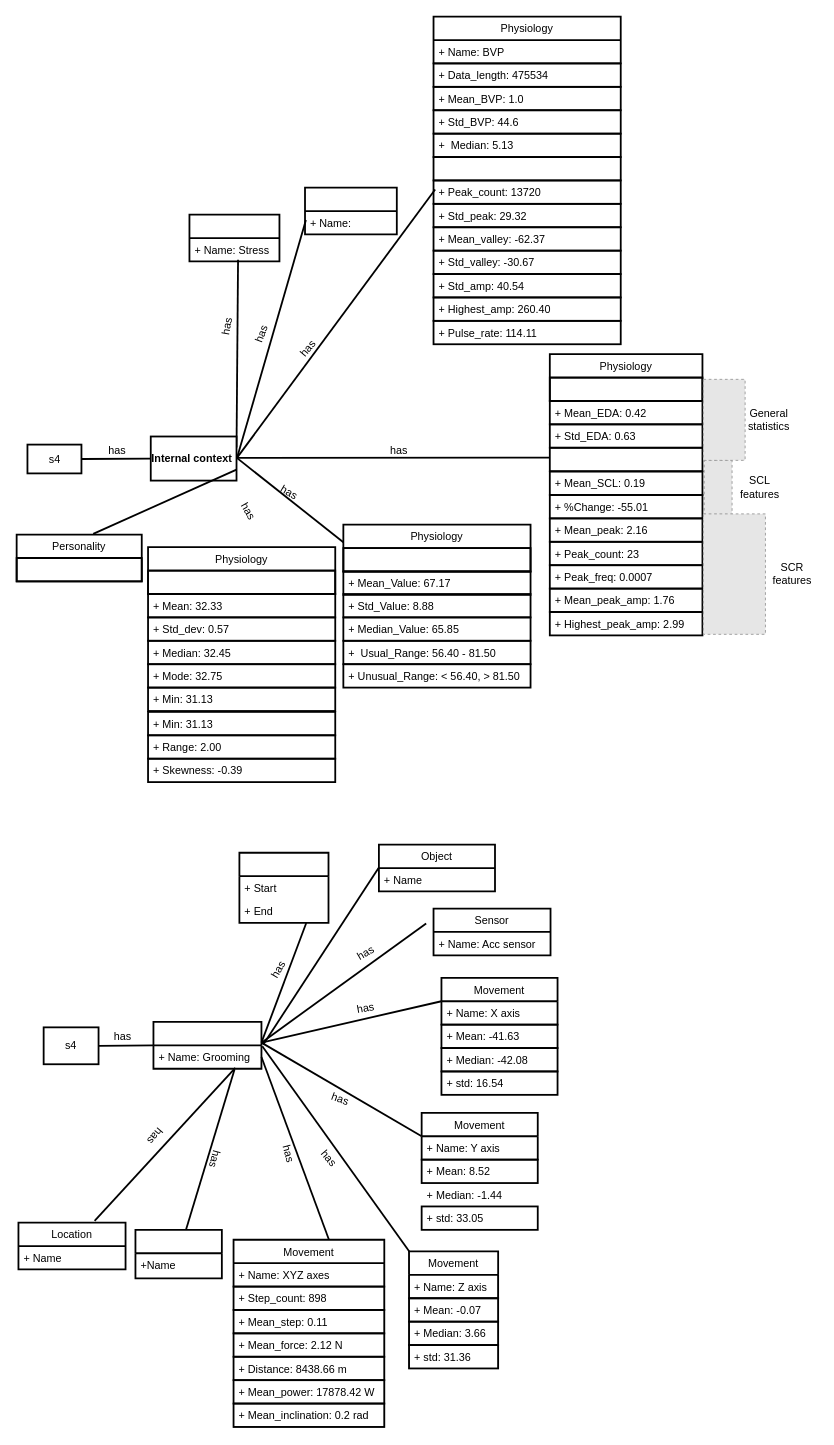
The diagram is 834 pixels wide and 1445 high, and some of its shapes have lost their labels. Grey dashed boxes stand in for pictures. Each missing label, with the box of its shape:
+ Median_EDA: 0.18: (548, 446, 703, 472)
+ Name: Conscientious: (15, 557, 142, 582)
+ Name: EDA: (548, 376, 703, 401)
+ Name: Heart rate: (342, 547, 531, 572)
+ Name: Temperature: (147, 569, 336, 594)
+ Skewness: -0.15: (432, 156, 621, 181)
Activity: (152, 1021, 262, 1069)
Device: (134, 1228, 222, 1279)
Emotion: (304, 186, 397, 235)
Health: (188, 213, 280, 262)
Timestamp: (238, 851, 329, 923)
